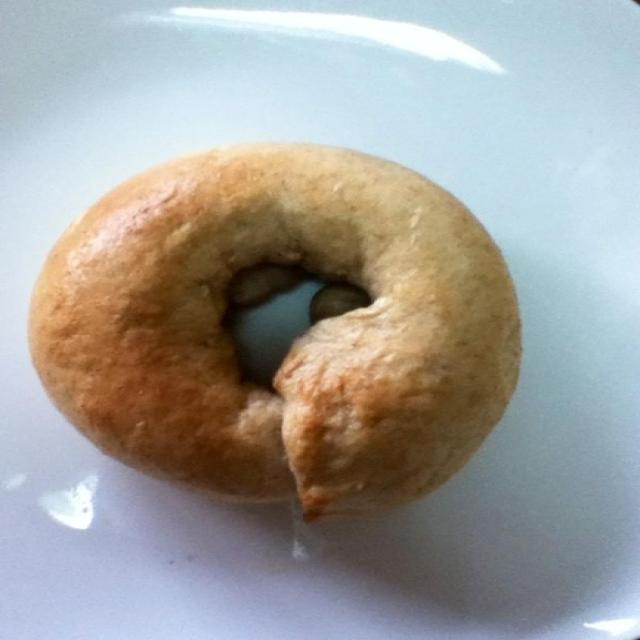面包点心: (19, 37, 608, 602)
